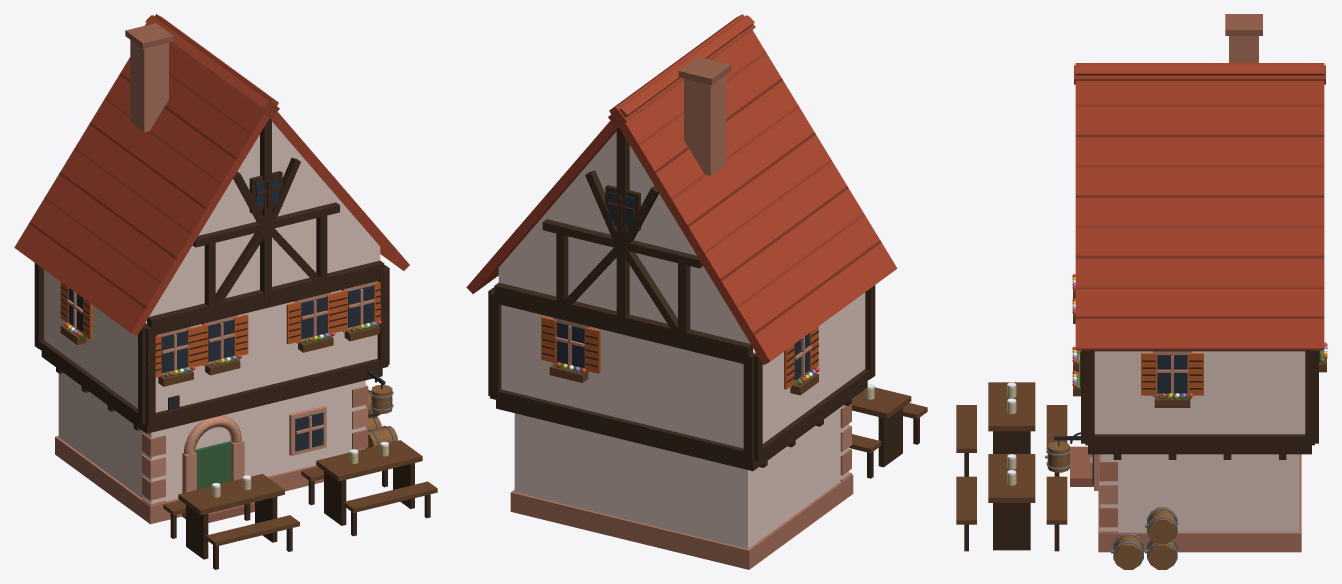
Rendered from wirtshaus.glb.
3 renders of one model, left to right at view 1: azimuth 30°, elevation 25°; view 2: azimuth 150°, elevation 25°; view 3: azimuth 270°, elevation 25°, orthographic. The views are drawn at different scales.
Size of the model in its own units: 3.73 by 5.3 by 3.95.
